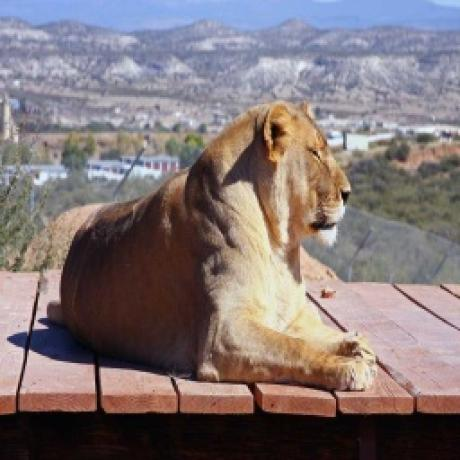Lion: (54, 94, 388, 396)
